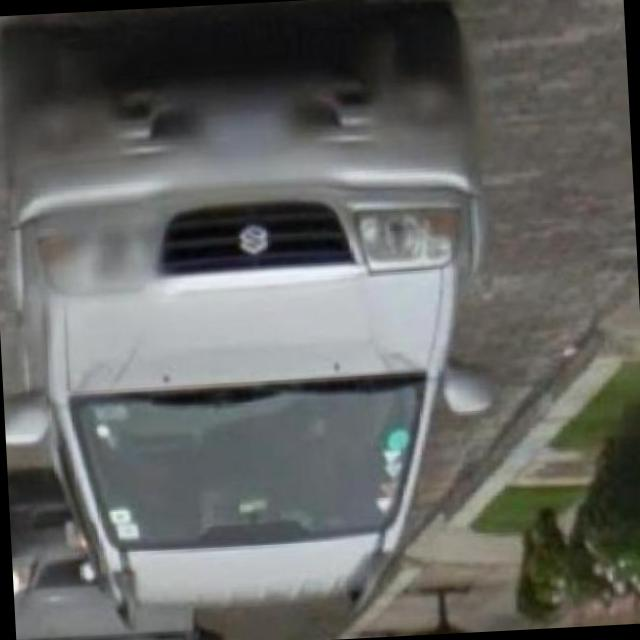car: (0, 14, 488, 609)
